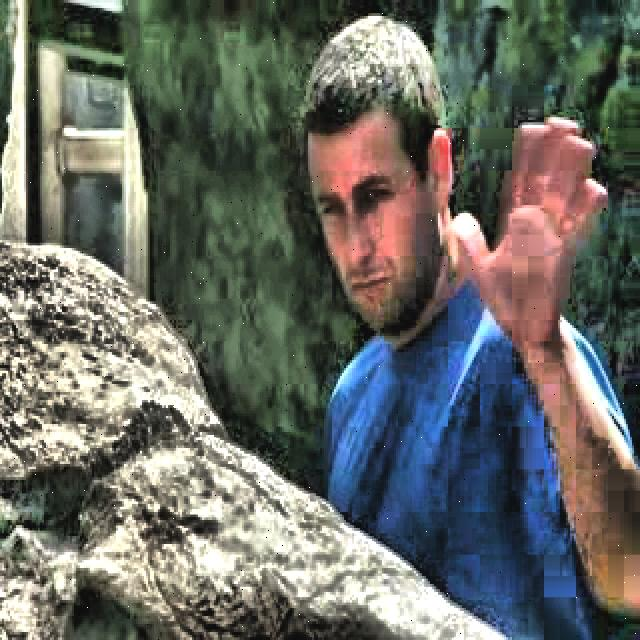L: (303, 18, 640, 640)
